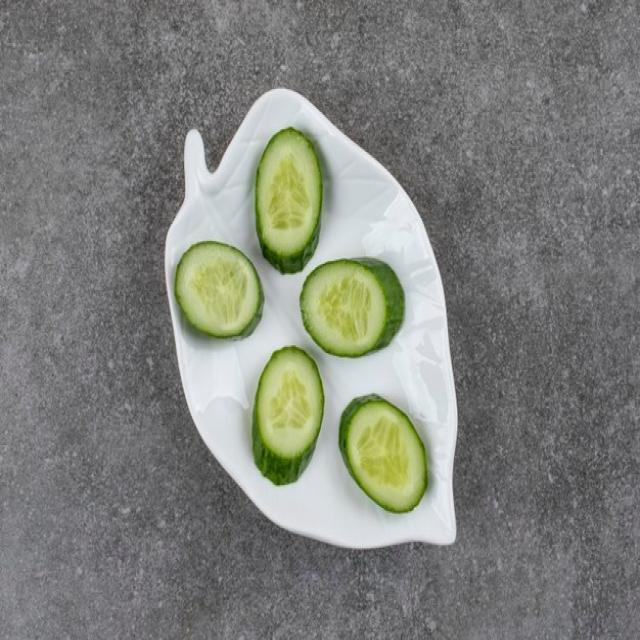cucumber: (340, 393, 430, 516), (299, 256, 403, 358), (256, 124, 321, 274), (252, 348, 322, 485), (173, 242, 265, 340)
